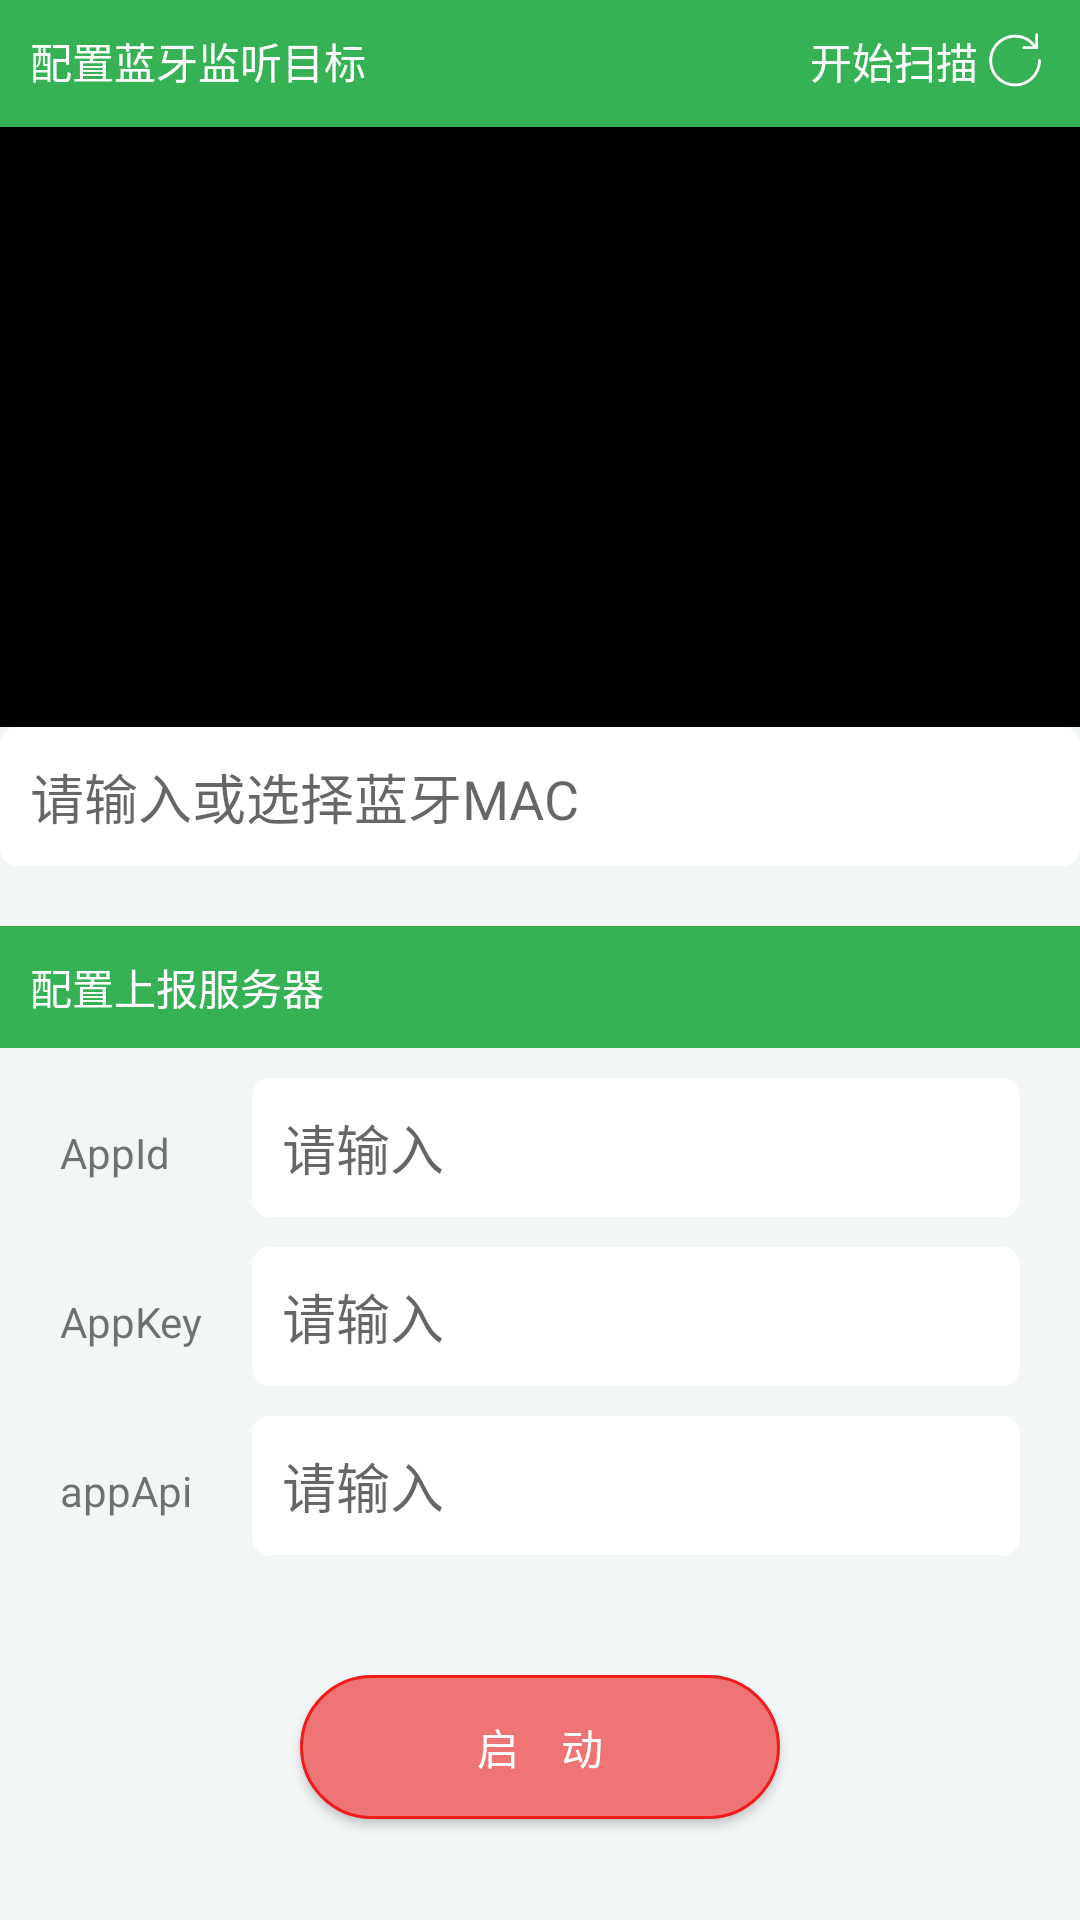

Named icons in this screenshot (1080px×1920px) and their bounding boxes, (x1, y1, x2, y2):
refresh: (989, 33, 1041, 87)
